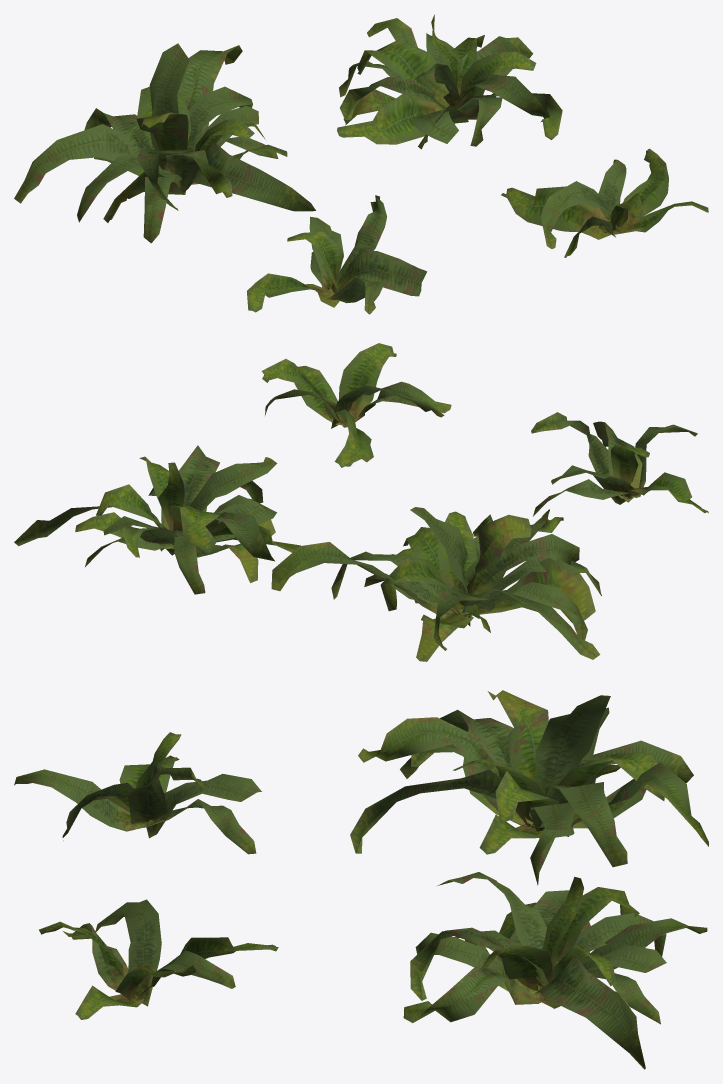
File: fern.glb
3 renders of one model, top to bottom at view 1: azimuth 30°, elevation 25°; view 2: azimuth 150°, elevation 25°; view 3: azimuth 270°, elevation 25°, orthographic. The views are drawn at different scales.
Parts seen in each view (by area): view 1: fern_02_b, fern_02_c, fern_02_d, fern_02_a; view 2: fern_02_b, fern_02_c, fern_02_d, fern_02_a; view 3: fern_02_b, fern_02_c, fern_02_a, fern_02_d.
Boxes of the visible parts, left/top/right/bottom form: fern_02_b: left=14, top=43, right=315, bottom=243; fern_02_c: left=337, top=14, right=562, bottom=149; fern_02_d: left=501, top=148, right=708, bottom=257; fern_02_a: left=247, top=195, right=426, bottom=314; fern_02_b: left=271, top=507, right=601, bottom=661; fern_02_c: left=14, top=445, right=300, bottom=594; fern_02_d: left=261, top=343, right=451, bottom=467; fern_02_a: left=531, top=412, right=708, bottom=516; fern_02_b: left=350, top=690, right=708, bottom=885; fern_02_c: left=403, top=872, right=707, bottom=1069; fern_02_a: left=14, top=732, right=261, bottom=854; fern_02_d: left=39, top=899, right=278, bottom=1019.
Bounding box in the file's own units: 1.96 × 0.4277 × 1.72.
Materials: 1 (1 with a texture image).
